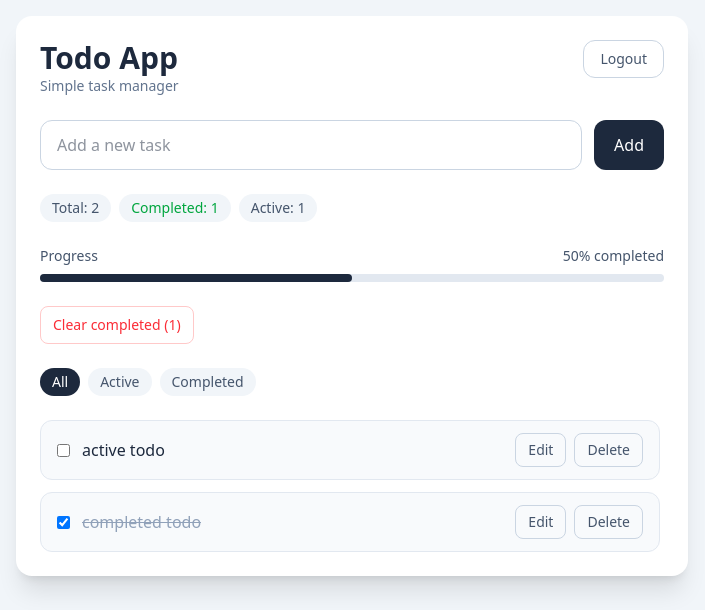
Todoページ：フィルターボタンのテスト › 「Active」をクリックすると、アクティブなタスクのみが表示される
Expected: the text "active todo" is shown, x1=82 y1=438 x2=165 y2=462
Expected: the text "completed todo" is shown, x1=82 y1=510 x2=201 y2=534
# 現在作業中タスクのフィルターボタンをクリック
Step 1. Click the button "Active" → click(120, 382), box x1=88 y1=368 x2=152 y2=396
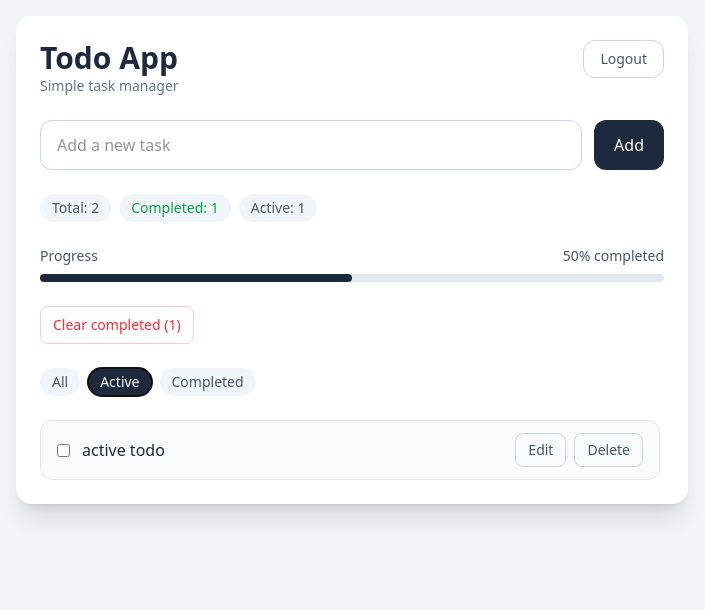
Expected: the text "active todo" is shown, x1=82 y1=438 x2=165 y2=462
Expected: the text "completed todo" is gone
